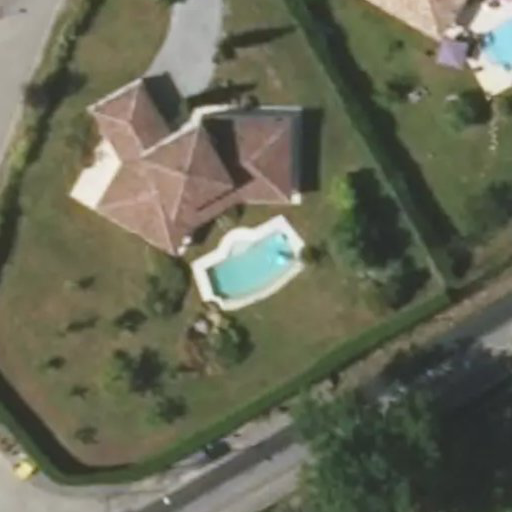pool: (199, 229, 312, 250)
